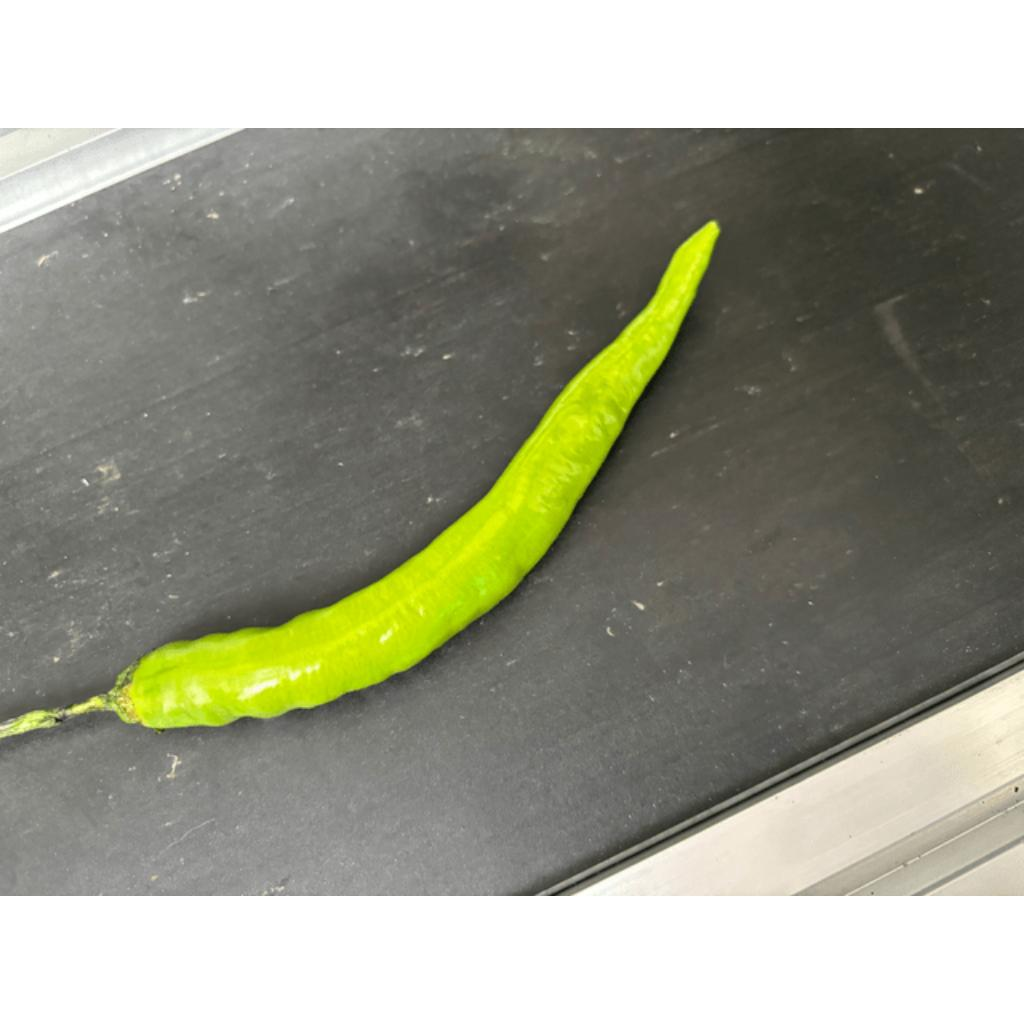chili: (104, 213, 726, 730)
